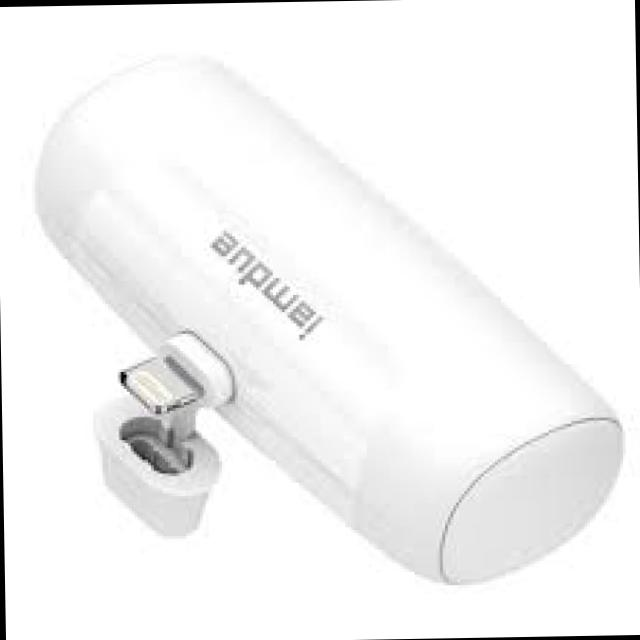power_bank: (25, 42, 626, 588)
